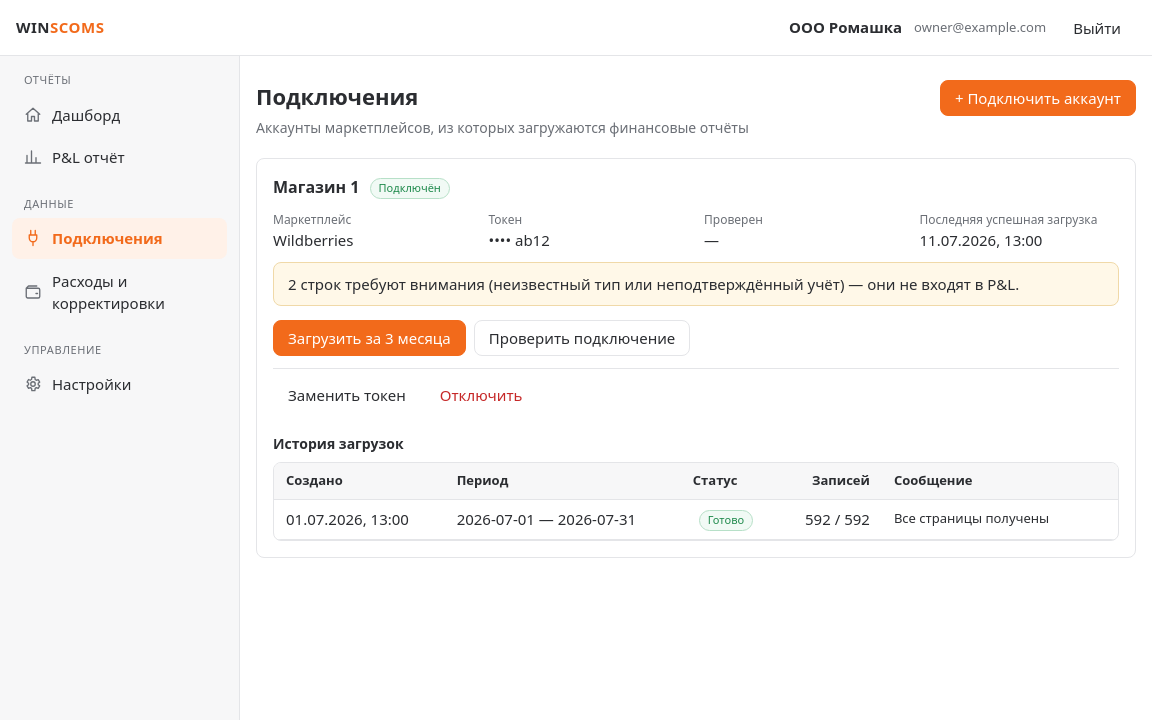
Test case: подключения › проверка подключения: успех и ошибка токена
Click the button "Проверить подключение" at (582,338), box [474, 320, 690, 356]
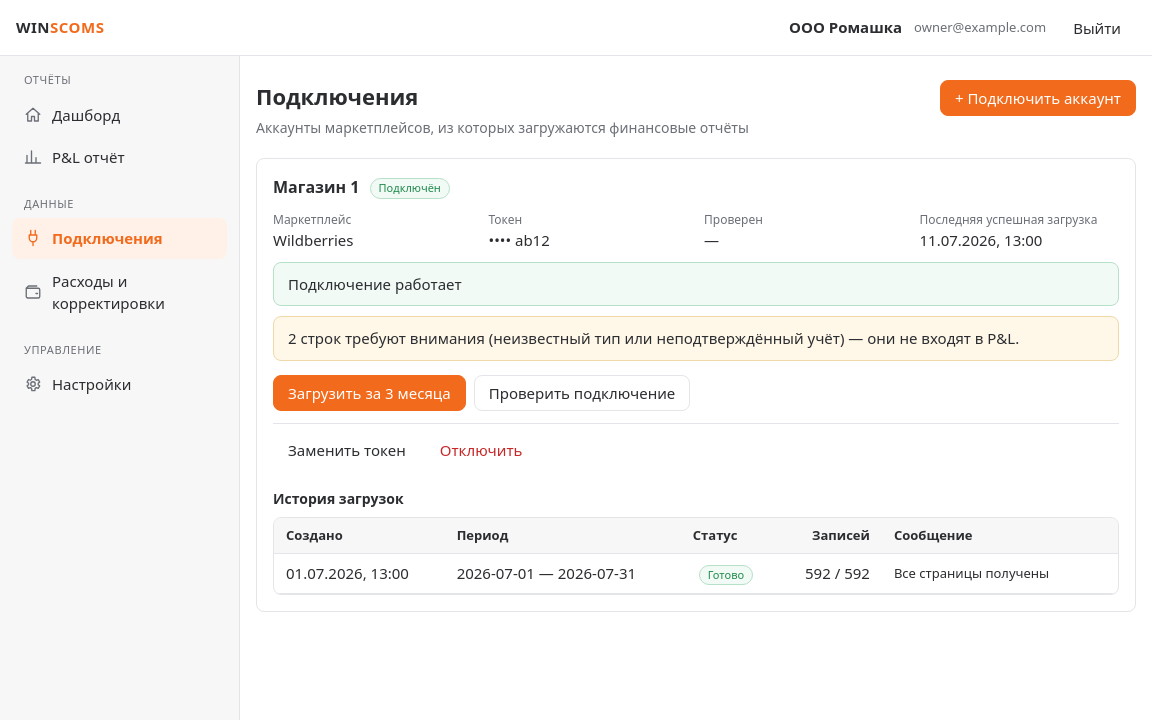
Expected: the text "Подключение работает" is shown, [273, 262, 1119, 306]
Click the button "Проверить подключение" at (582,392), box [474, 374, 690, 410]
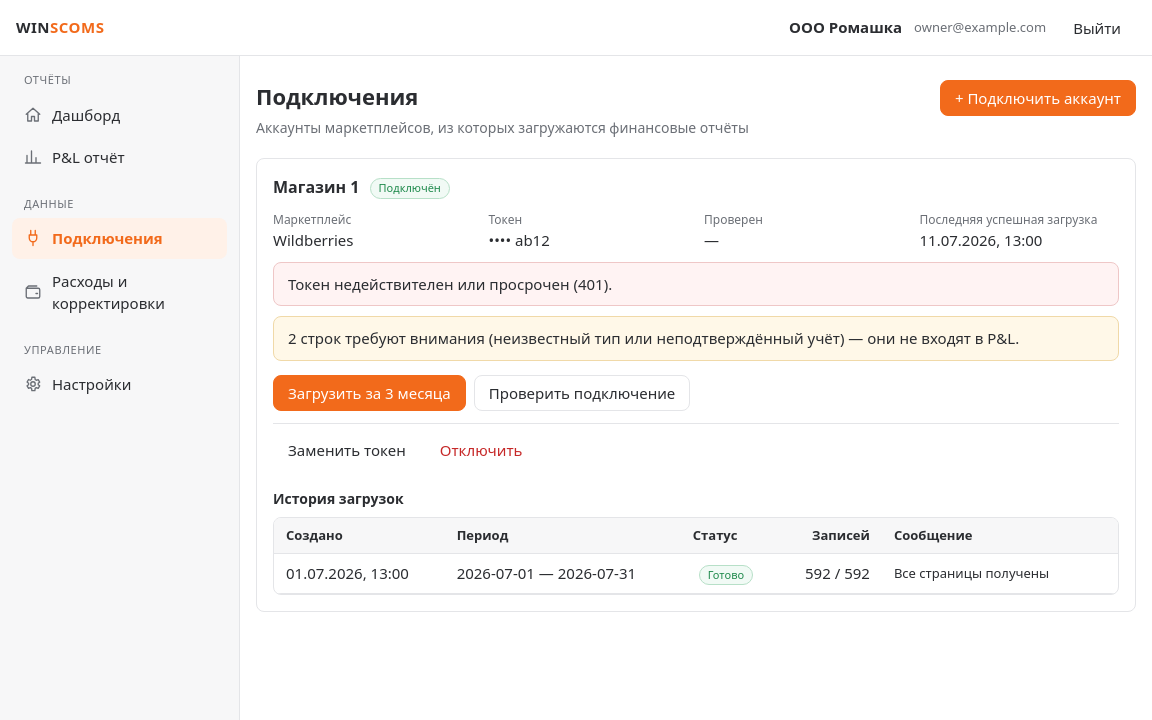
Expected: the text "Токен недействителен или просрочен (401)." is shown, [273, 262, 1119, 306]
